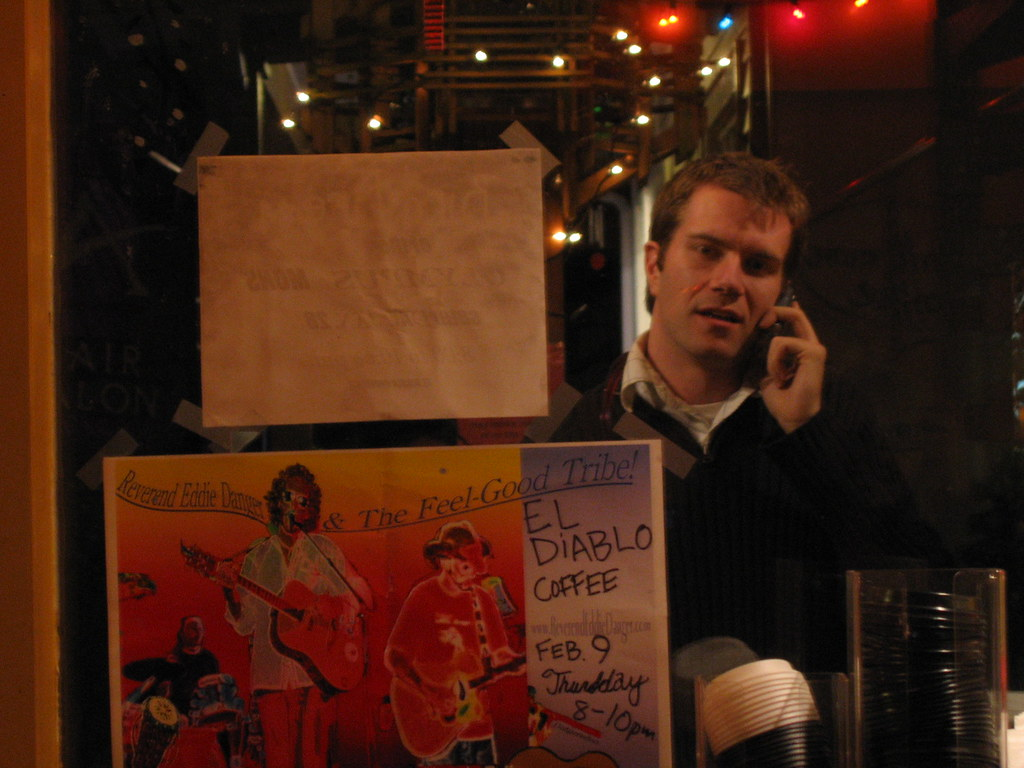phone: (760, 286, 822, 383)
talk: (653, 213, 832, 407)
